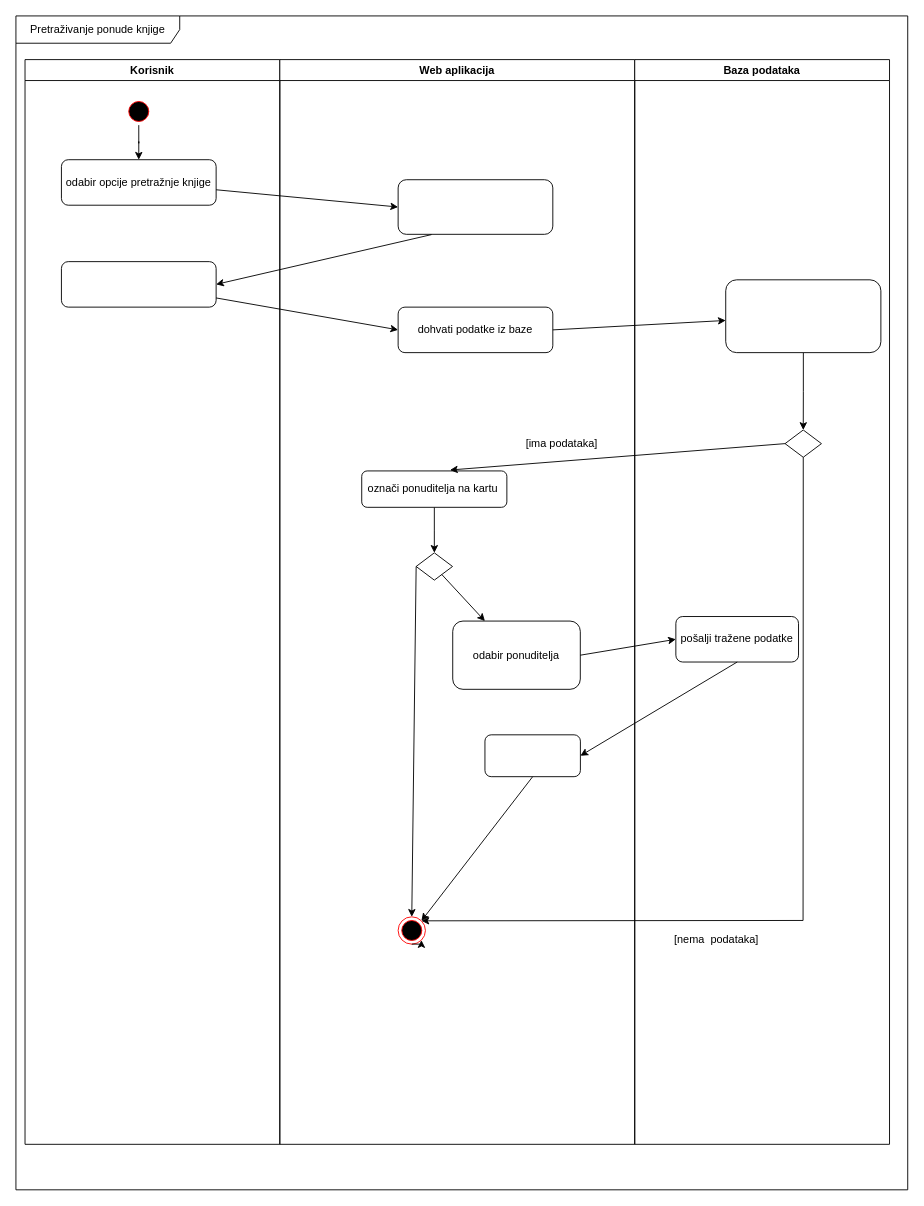
This 924x1206 diagram has some shape labels left out. Each missing label, with the centre of its shape:
prikaz forme za unos podataka i karte: the point at 475,206
prikaži podatke: the point at 532,755
provjera dostupnih registriranih ponuditelja i pošalji tražene podatke: the point at 803,316
unos i potvrda podataka: the point at 138,284
